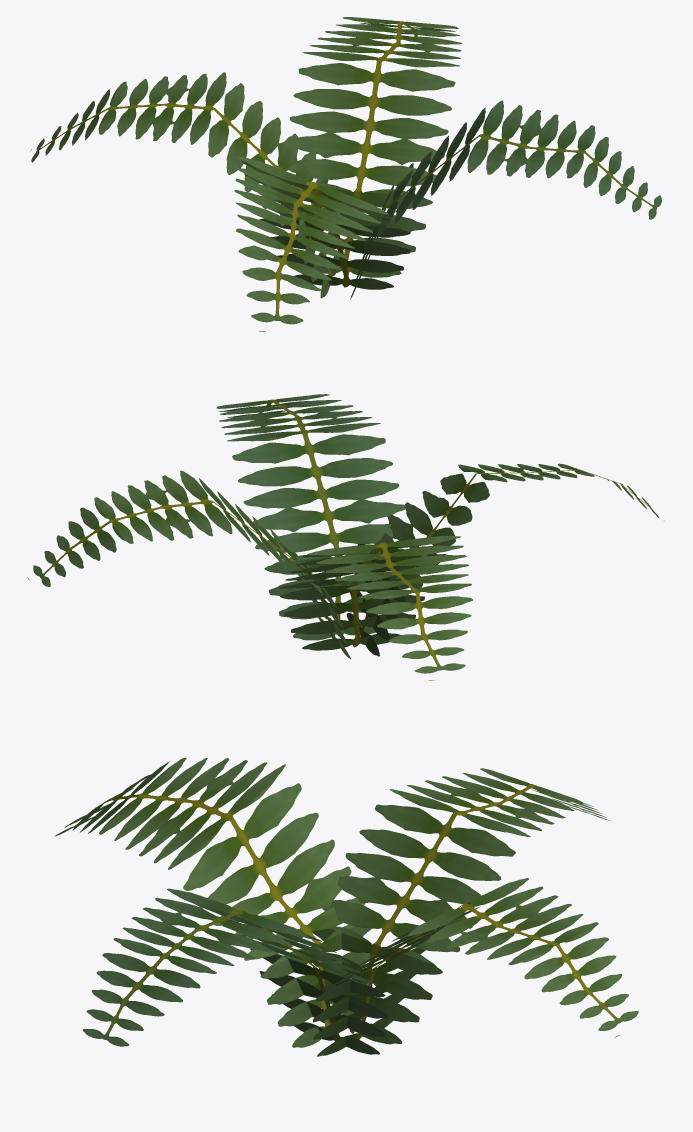
Rendered from fern-001-3.glb.
3 views of the same model, one above another, from view 1: azimuth 30°, elevation 25°; view 2: azimuth 150°, elevation 25°; view 3: azimuth 270°, elevation 25° (orthographic). The views are drawn at different scales.
Visible parts, largest first — view 1: fern.001_3; view 2: fern.001_3; view 3: fern.001_3.
Part boxes in pixels (x1,y1,x2,y2): fern.001_3: (30,17,661,331); fern.001_3: (27,394,664,681); fern.001_3: (54,757,638,1056).
Bounding box in the file's own units: 10.11 × 4.38 × 10.3.
Materials: 1 (1 with a texture image).
